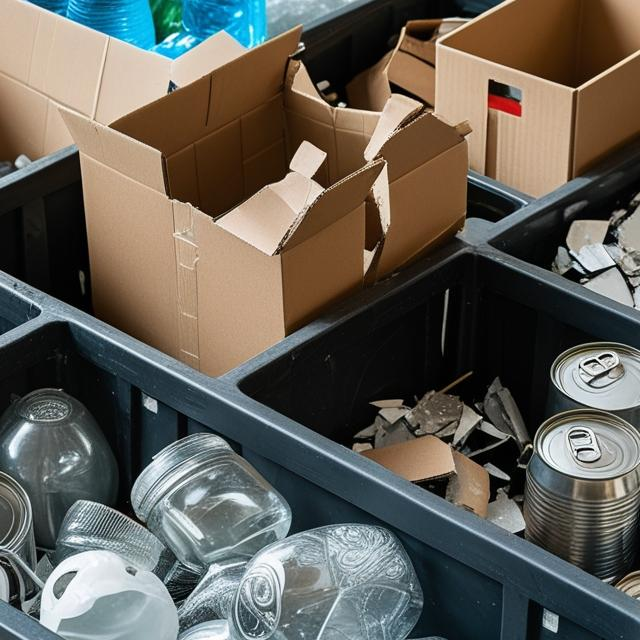metal: (526, 410, 639, 546)
